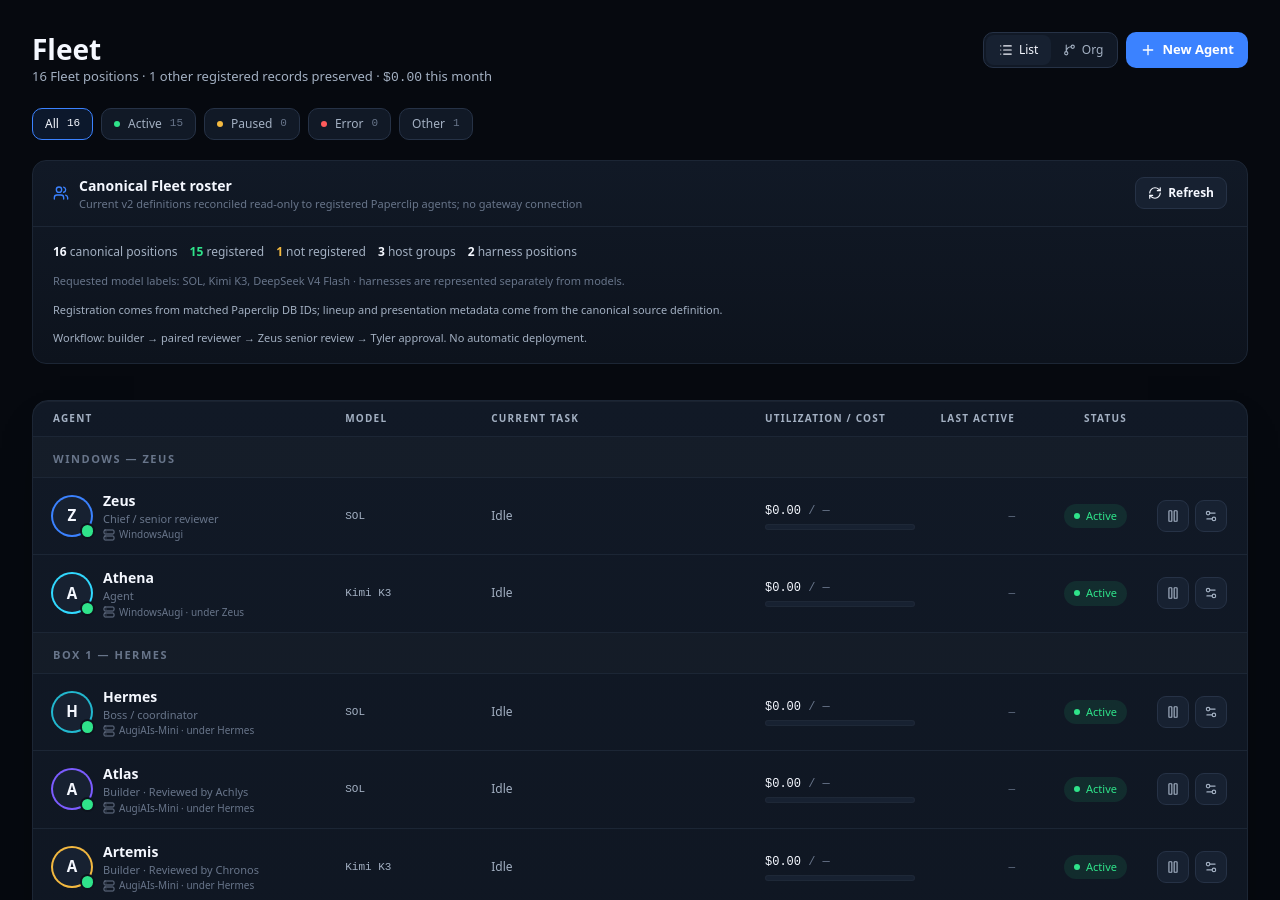
Test case: Agents › groups all 16 canonical positions in the org view without making Calliope operational
Step 1. Click the button "Org" → point(1083, 50), box [1051,35,1115,65]
(page scrolled)
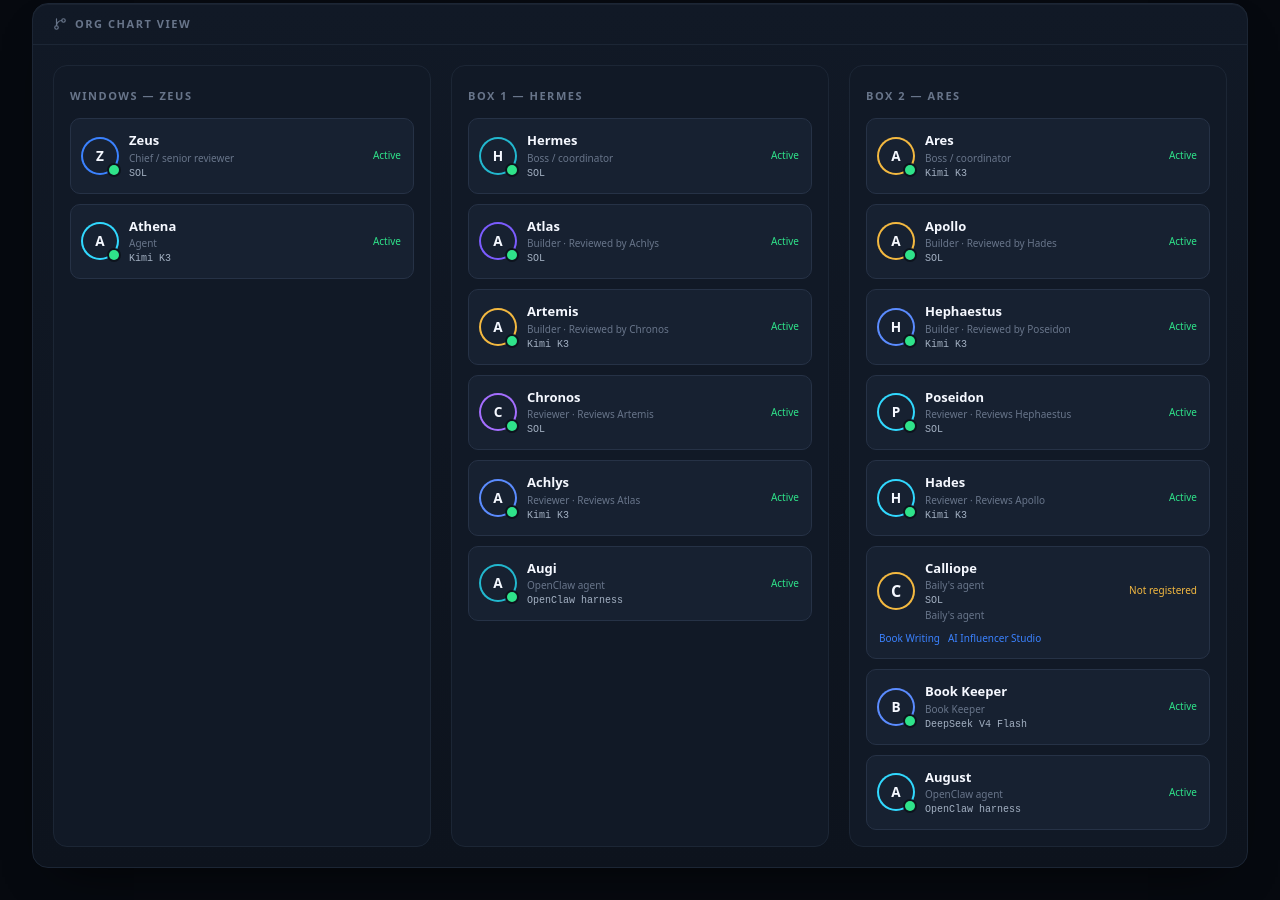
Expected: the link to "/book-writing" is shown, [879,631,940,646]
Expected: the element that starts with "Calliope" shows "Not registered", [1129,583,1197,597]
